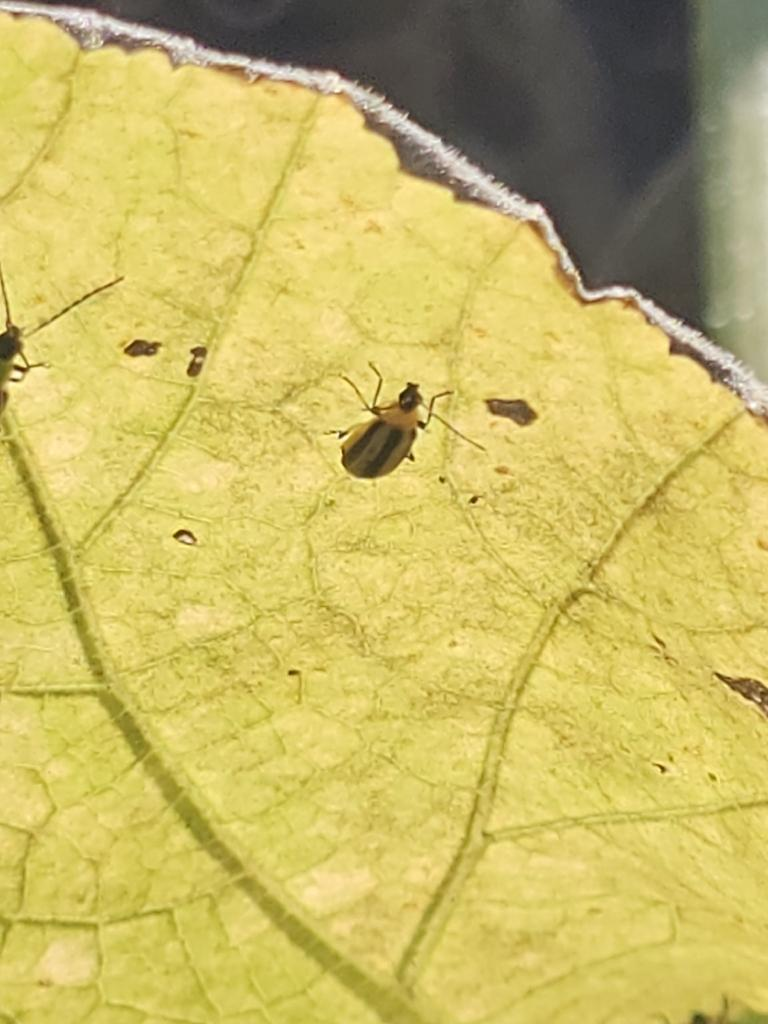potato_beetle: (301, 344, 480, 510)
